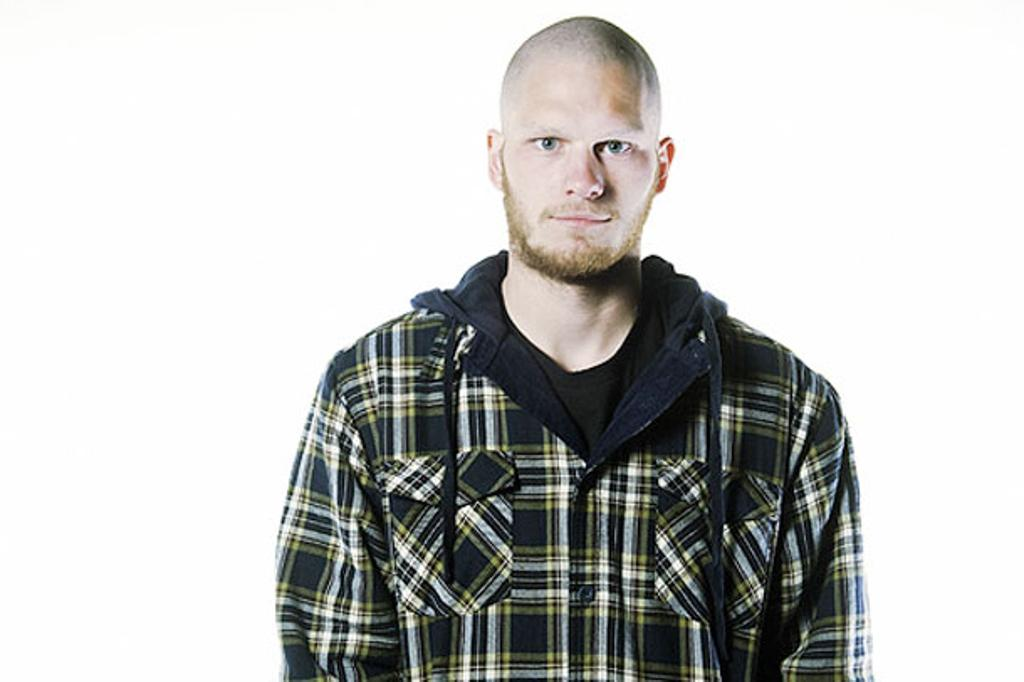face: (506, 62, 656, 278)
